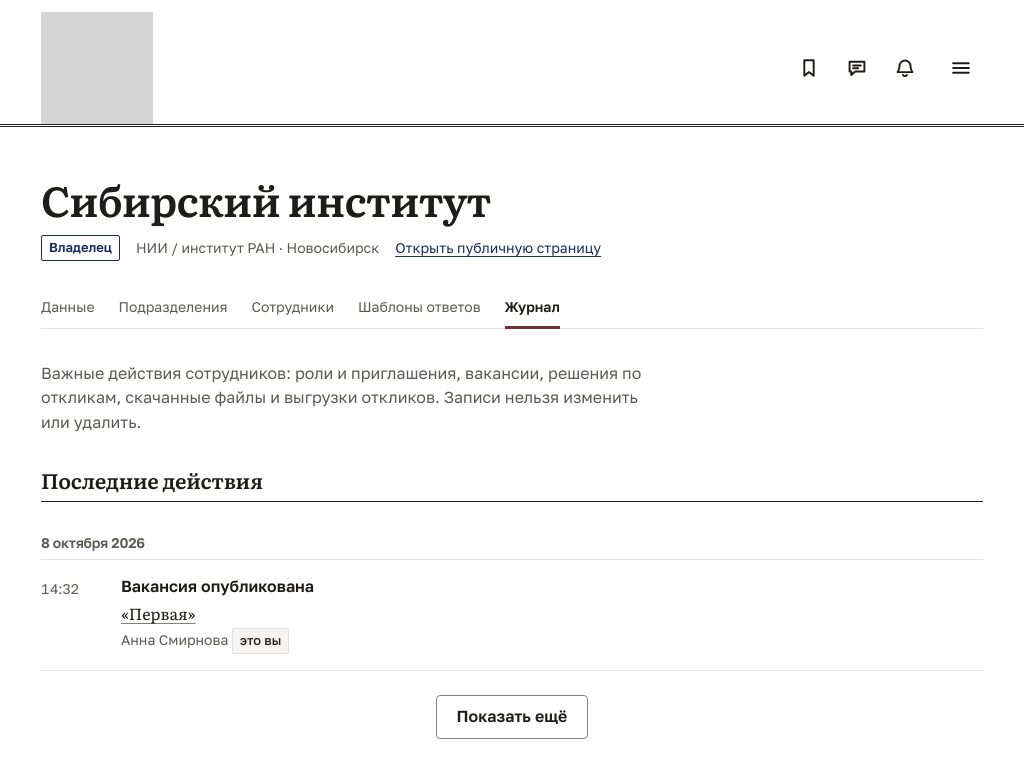
Test: audit log page › keeps the entries and offers a retry when the next page fails
This screenshot has width=1024, height=780.
Expected: the link "«Первая»" is shown, left=121, top=601, right=196, bottom=625
Click the button "Показать ещё": (512, 717) left=436, top=695, right=588, bottom=739
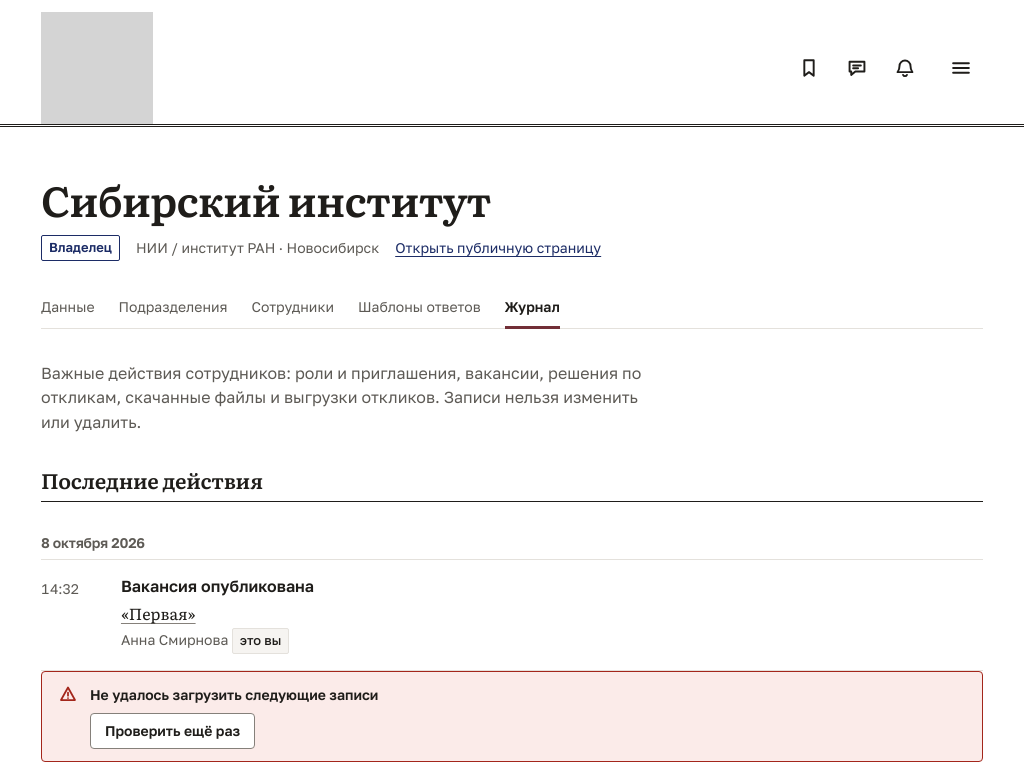
Expected: the link "«Первая»" is shown, left=121, top=601, right=196, bottom=625
Now the message shows "Не удалось загрузить следующие записи", box left=90, top=686, right=378, bottom=703
Click the button "Проверить ещё раз": (173, 731) left=90, top=713, right=255, bottom=749
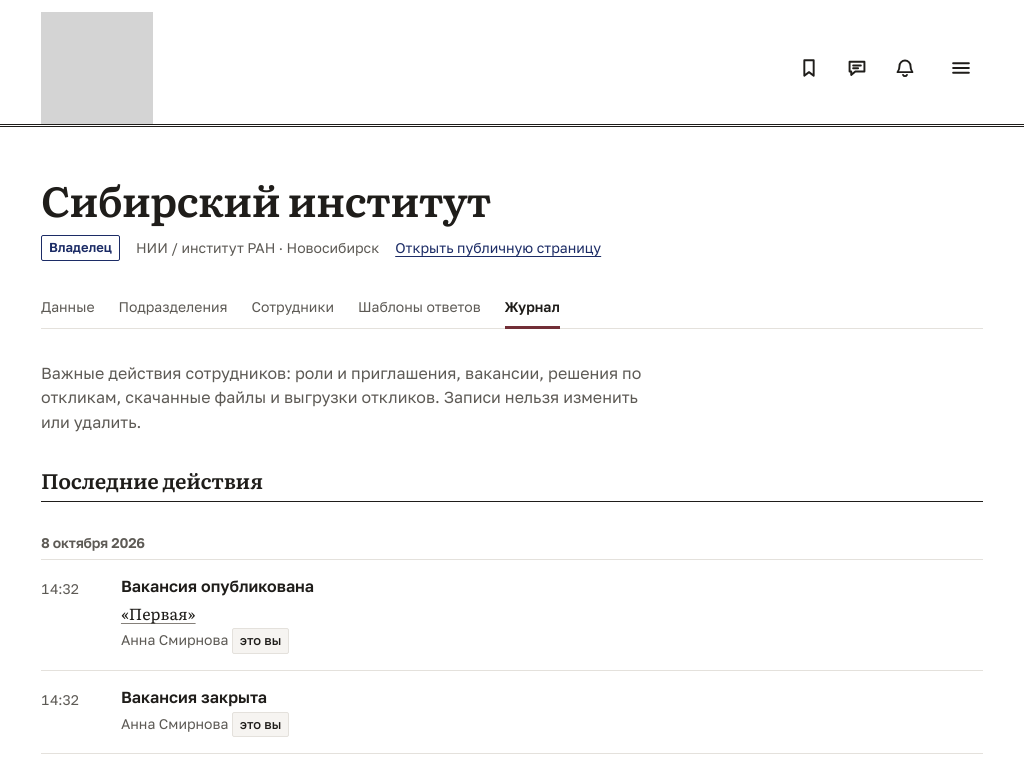
Now the text "Вакансия закрыта" is shown, box left=121, top=687, right=267, bottom=707
Now the message "Не удалось загрузить следующие записи Проверить ещё раз" is gone
